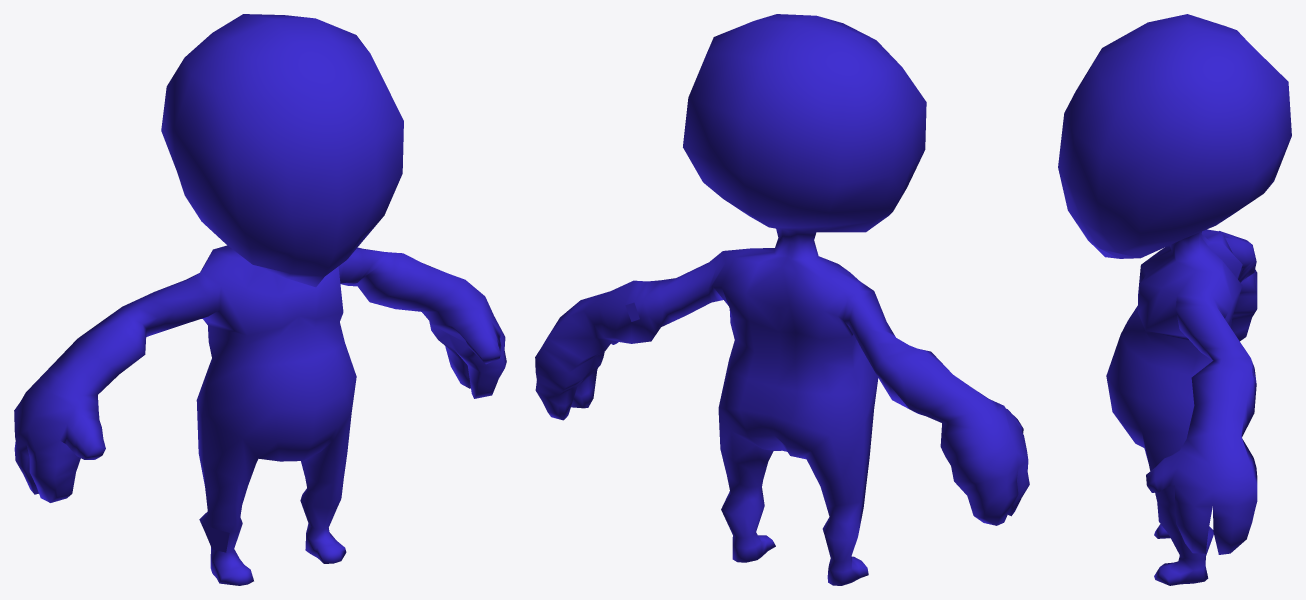
The model's file is bobbista4.fbx.
3 views of the same model, side by side, from view 1: azimuth 30°, elevation 25°; view 2: azimuth 150°, elevation 25°; view 3: azimuth 270°, elevation 25° (orthographic). The views are drawn at different scales.
Visible parts, largest first — view 1: bobman; view 2: bobman; view 3: bobman.
Boxes of the visible parts, <box> form: bobman: <box>14,14,506,585</box>; bobman: <box>535,14,1029,585</box>; bobman: <box>1058,14,1291,585</box>.
Size of the model in its own units: 2.97 by 3.27 by 1.31.
4 materials, 4 textured.
